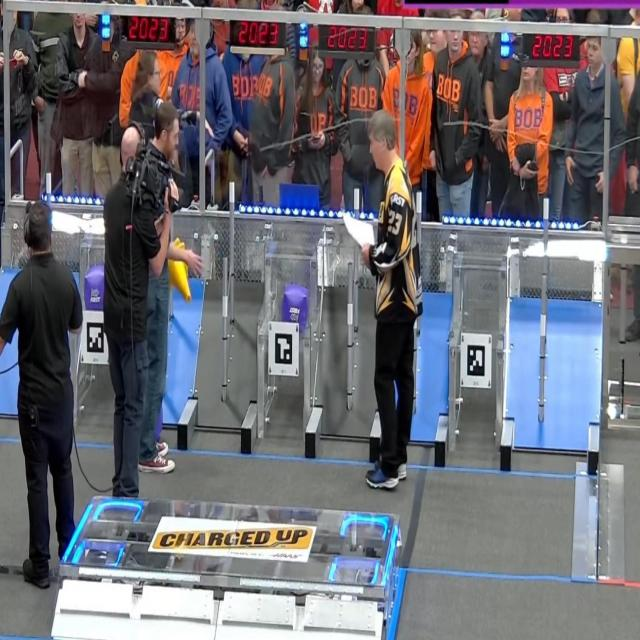frc_cone: (168, 238, 194, 301)
frc_cube: (283, 284, 307, 325), (84, 266, 104, 309)
